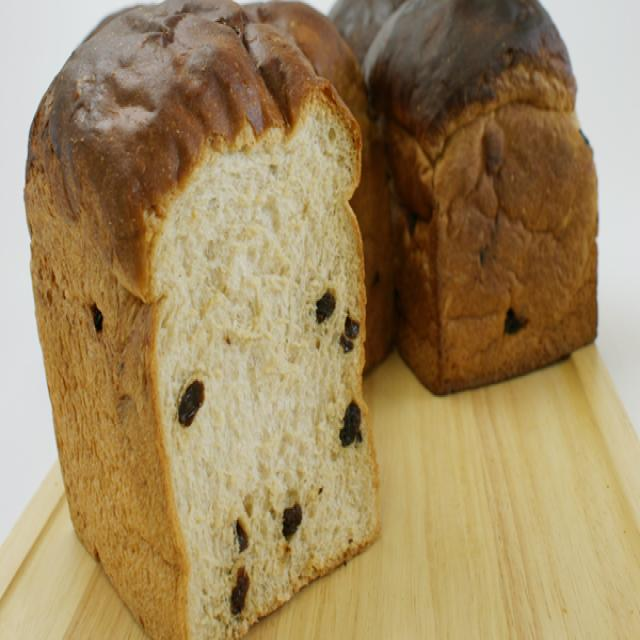面包点心: (9, 0, 604, 614)
